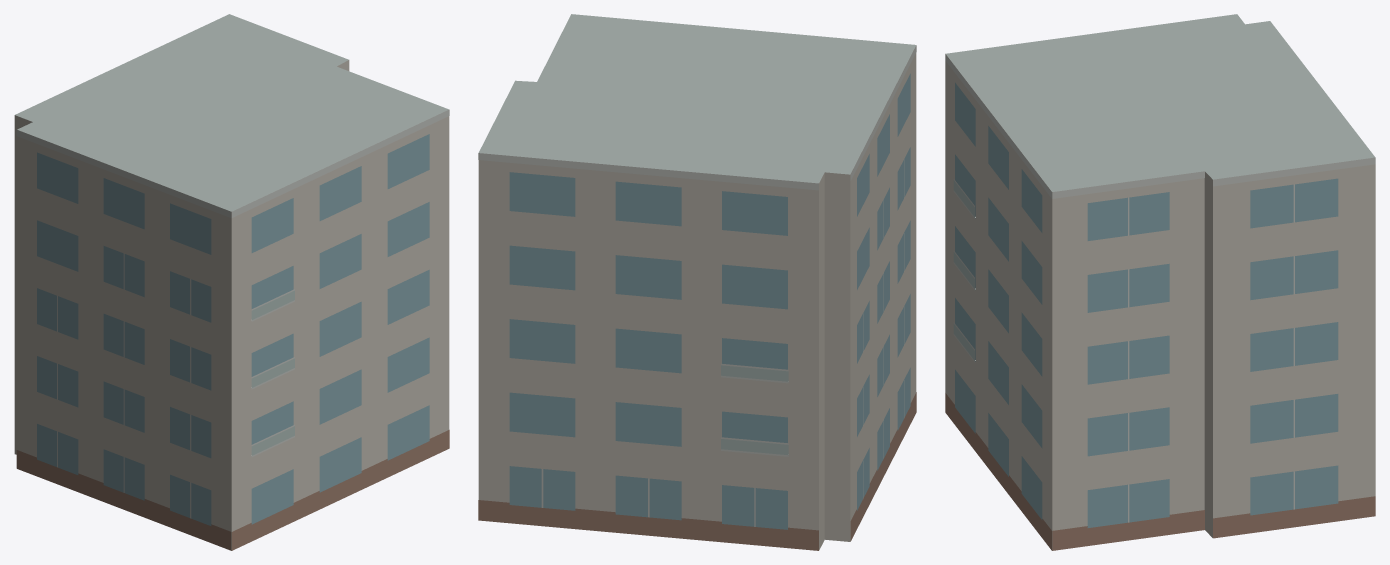
File: survey-upis-32926054.glb
3 views of the same model, side by side, from view 1: azimuth 30°, elevation 25°; view 2: azimuth 150°, elevation 25°; view 3: azimuth 270°, elevation 25° (orthographic). The views are drawn at different scales.
Parts seen in each view (by area): view 1: survey-upis-32926054.tmp; view 2: survey-upis-32926054.tmp; view 3: survey-upis-32926054.tmp.
Boxes of the visible parts, x1=… form: survey-upis-32926054.tmp: x1=14, y1=14, x2=449, y2=550; survey-upis-32926054.tmp: x1=478, y1=14, x2=916, y2=550; survey-upis-32926054.tmp: x1=945, y1=14, x2=1375, y2=550.
Bounding box in the file's own units: 13.64 × 12.8 × 13.92.
